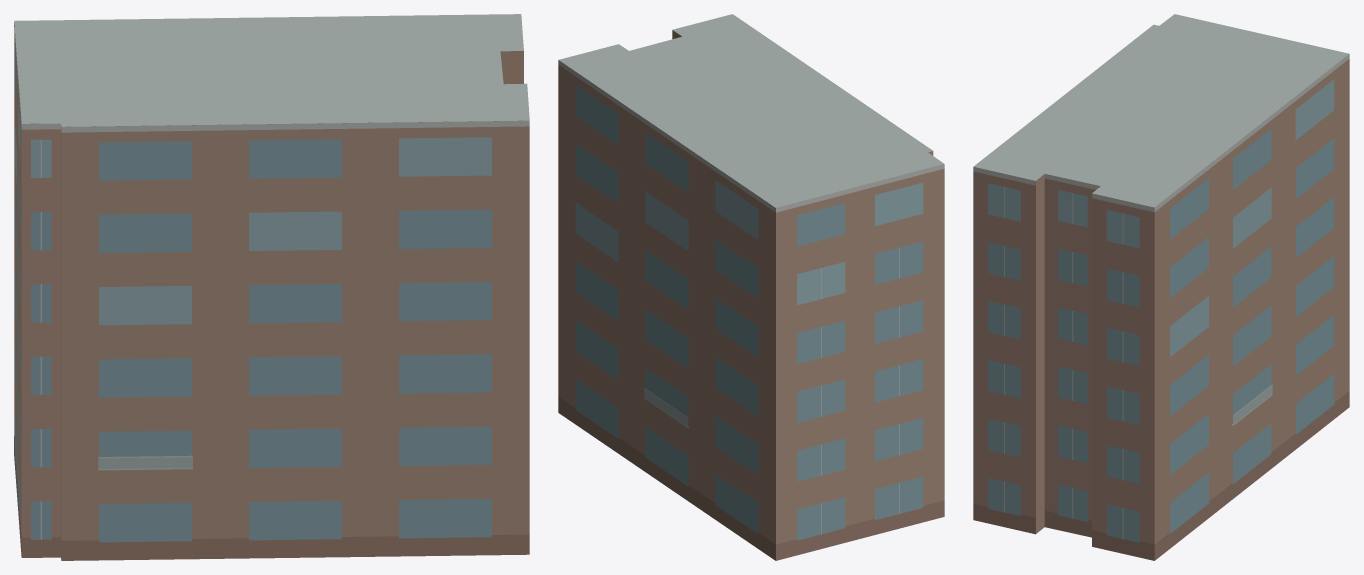
The model's file is survey-upis-32759274.glb.
3 views of the same model, side by side, from view 1: azimuth 30°, elevation 25°; view 2: azimuth 150°, elevation 25°; view 3: azimuth 270°, elevation 25° (orthographic). The views are drawn at different scales.
Parts seen in each view (by area): view 1: survey-upis-32759274.tmp; view 2: survey-upis-32759274.tmp; view 3: survey-upis-32759274.tmp.
Boxes of the visible parts, left/top/right/bottom form: survey-upis-32759274.tmp: left=14, top=14, right=529, bottom=560; survey-upis-32759274.tmp: left=558, top=14, right=944, bottom=560; survey-upis-32759274.tmp: left=973, top=14, right=1349, bottom=560.
Size of the model in its own units: 21.51 by 18.3 by 17.68.
